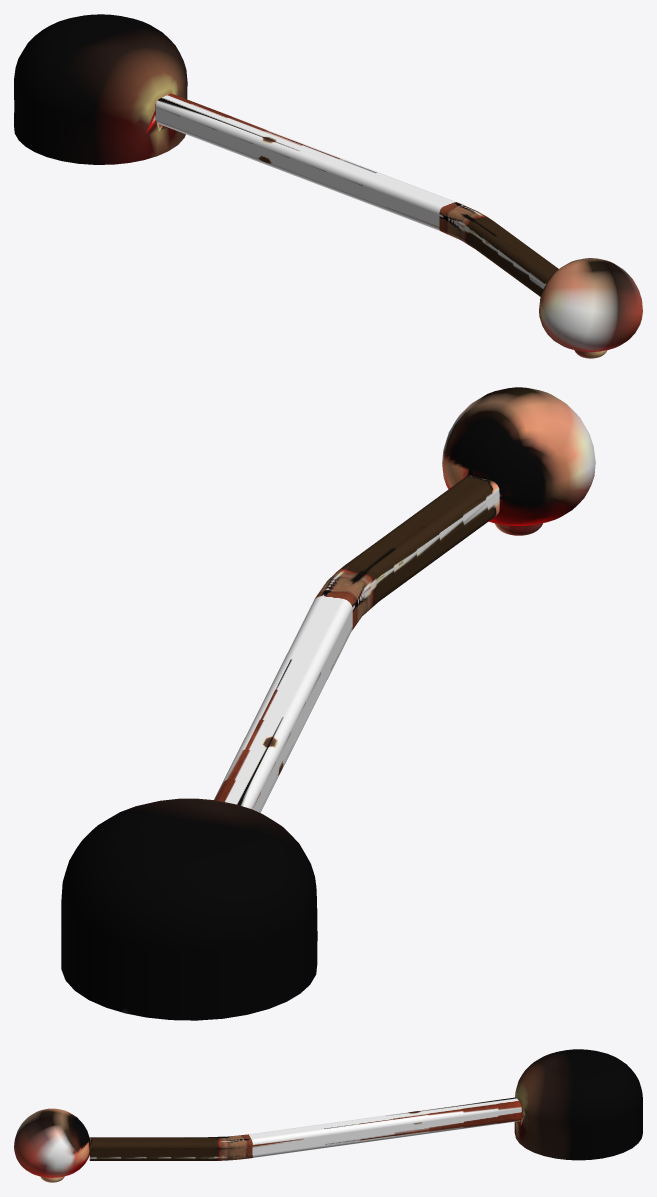
Rendered from pin2.glb.
3 views of the same model, one above another, from view 1: azimuth 30°, elevation 25°; view 2: azimuth 150°, elevation 25°; view 3: azimuth 270°, elevation 25° (orthographic). The views are drawn at different scales.
Parts seen in each view (by area): view 1: co3; view 2: co3; view 3: co3.
Part boxes in pixels (bbox=[...]): co3: bbox=[14, 14, 642, 358]; co3: bbox=[61, 387, 595, 1020]; co3: bbox=[14, 1049, 642, 1182].
Bounding box in the file's own units: 0.1018 × 0.0362 × 0.296.
Materials: 1 (1 with a texture image).
